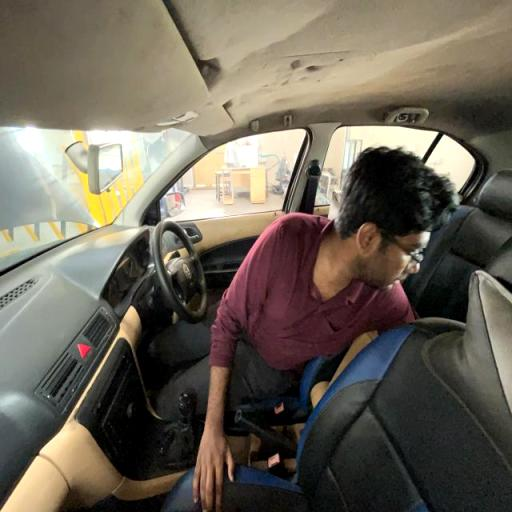Reaching_behind: (182, 144, 464, 453)
